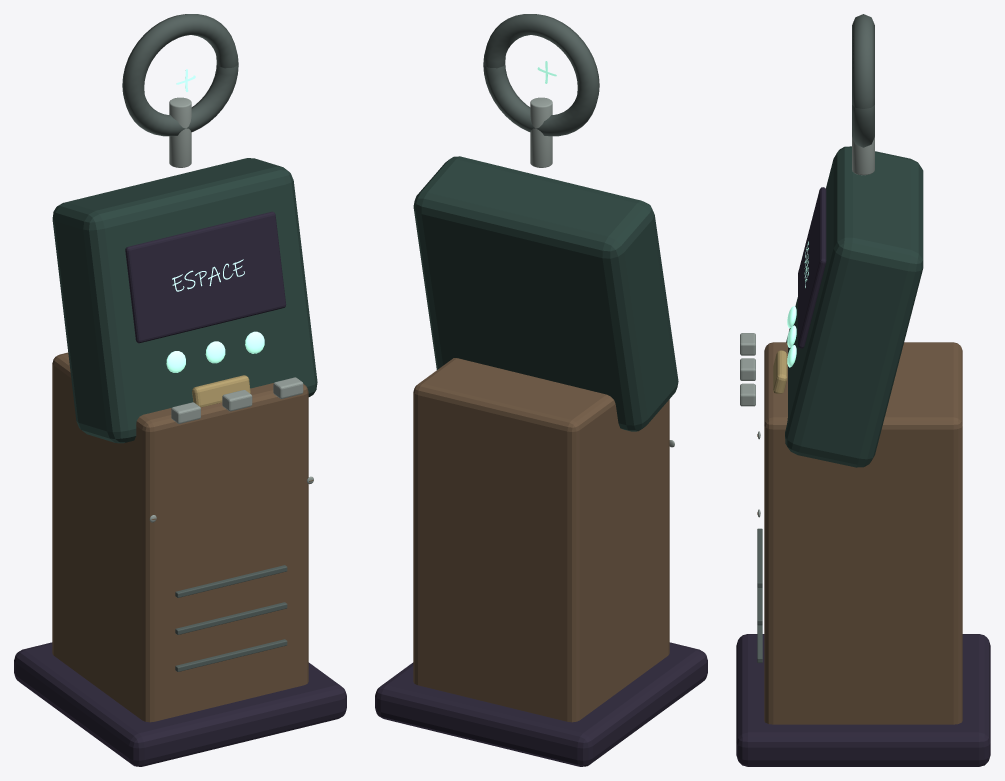
File: terminal_capacity.glb
3 views of the same model, side by side, from view 1: azimuth 30°, elevation 25°; view 2: azimuth 150°, elevation 25°; view 3: azimuth 270°, elevation 25° (orthographic).
Visible parts, largest first — view 1: Walnut_pedestal, Teal_panel, Foot, Screen, Badge, Badge_stem, Button, Pedestal_vent, Pedestal_vent.001, Pedestal_vent.002; view 2: Walnut_pedestal, Teal_panel, Foot, Badge, Badge_stem; view 3: Walnut_pedestal, Teal_panel, Foot, Badge, Screen, Badge_stem, Button.
Boxes of the visible parts, x1,y1,x2,y2 form: Walnut_pedestal: [52, 352, 308, 722]; Teal_panel: [52, 158, 317, 443]; Foot: [14, 642, 346, 766]; Screen: [125, 211, 286, 343]; Badge: [122, 14, 238, 136]; Badge_stem: [169, 97, 191, 167]; Button: [192, 375, 250, 407]; Pedestal_vent: [175, 639, 287, 671]; Pedestal_vent.001: [175, 602, 287, 634]; Pedestal_vent.002: [175, 565, 287, 597]; Walnut_pedestal: [413, 358, 669, 722]; Teal_panel: [413, 156, 678, 431]; Foot: [375, 642, 707, 766]; Badge: [483, 14, 599, 136]; Badge_stem: [530, 97, 552, 167]; Walnut_pedestal: [764, 342, 962, 724]; Teal_panel: [785, 146, 923, 467]; Foot: [736, 634, 990, 766]; Badge: [852, 14, 874, 147]; Screen: [798, 187, 826, 348]; Badge_stem: [852, 137, 874, 175]; Button: [773, 350, 787, 393].
Bounding box in the file's own units: 0.55 × 1.66 × 0.55.
